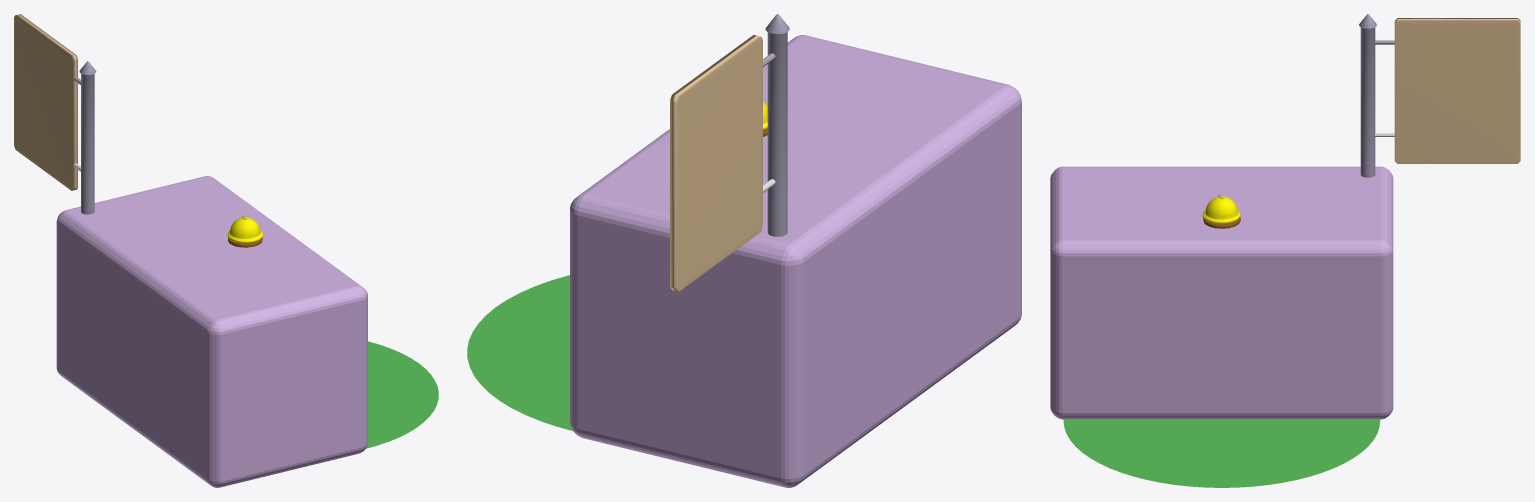
Rendered from counter.fbx.
3 renders of one model, left to right at view 1: azimuth 30°, elevation 25°; view 2: azimuth 150°, elevation 25°; view 3: azimuth 270°, elevation 25°, orthographic. The views are drawn at different scales.
Parts seen in each view (by area): view 1: Cube, Cube.001, Circle, Circle.001, Sphere; view 2: Cube, Cube.001, Circle, Circle.001; view 3: Cube, Cube.001, Circle, Circle.001, Sphere.
Boxes of the visible parts, x1,y1,x2,y2 form: Cube: [56, 176, 367, 487]; Cube.001: [14, 14, 77, 190]; Circle: [366, 341, 438, 448]; Circle.001: [79, 61, 96, 214]; Sphere: [227, 218, 262, 242]; Cube: [570, 35, 1021, 487]; Cube.001: [670, 35, 762, 291]; Circle: [467, 275, 572, 430]; Circle.001: [765, 14, 789, 236]; Cube: [1050, 166, 1393, 419]; Cube.001: [1394, 18, 1520, 163]; Circle: [1063, 419, 1380, 487]; Circle.001: [1359, 14, 1376, 177]; Sphere: [1202, 197, 1240, 223].
Size of the model in its own units: 359 by 380 by 477.
